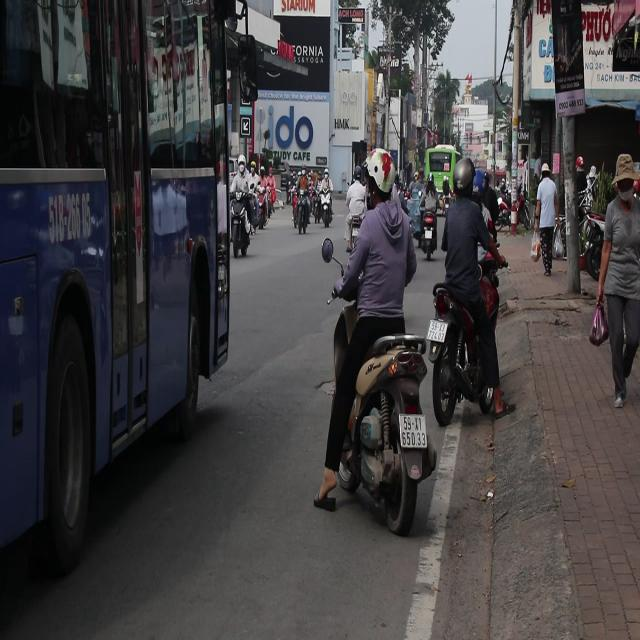bus: (4, 108, 220, 627), (426, 145, 460, 192)
motorbike: (311, 304, 428, 529), (430, 259, 521, 476), (229, 185, 255, 254), (416, 205, 438, 260), (320, 190, 338, 227), (259, 180, 267, 227), (300, 201, 308, 240), (312, 191, 319, 233), (267, 167, 272, 206)
